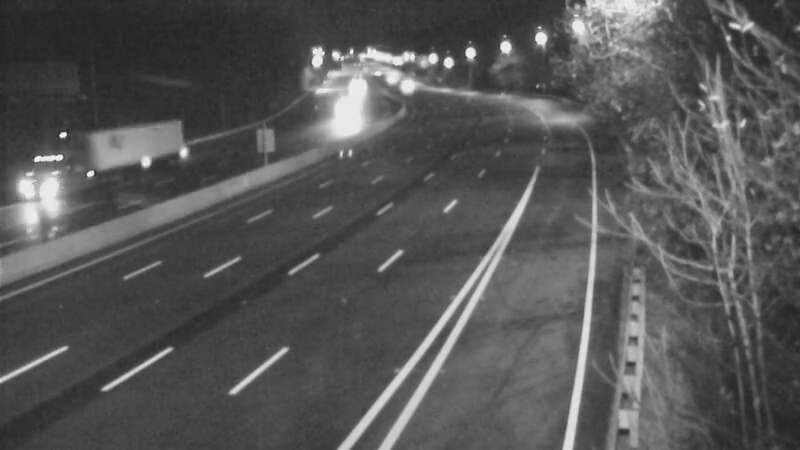vehicle: (65, 135, 145, 215), (380, 59, 430, 109), (364, 50, 414, 100), (310, 92, 360, 142)
